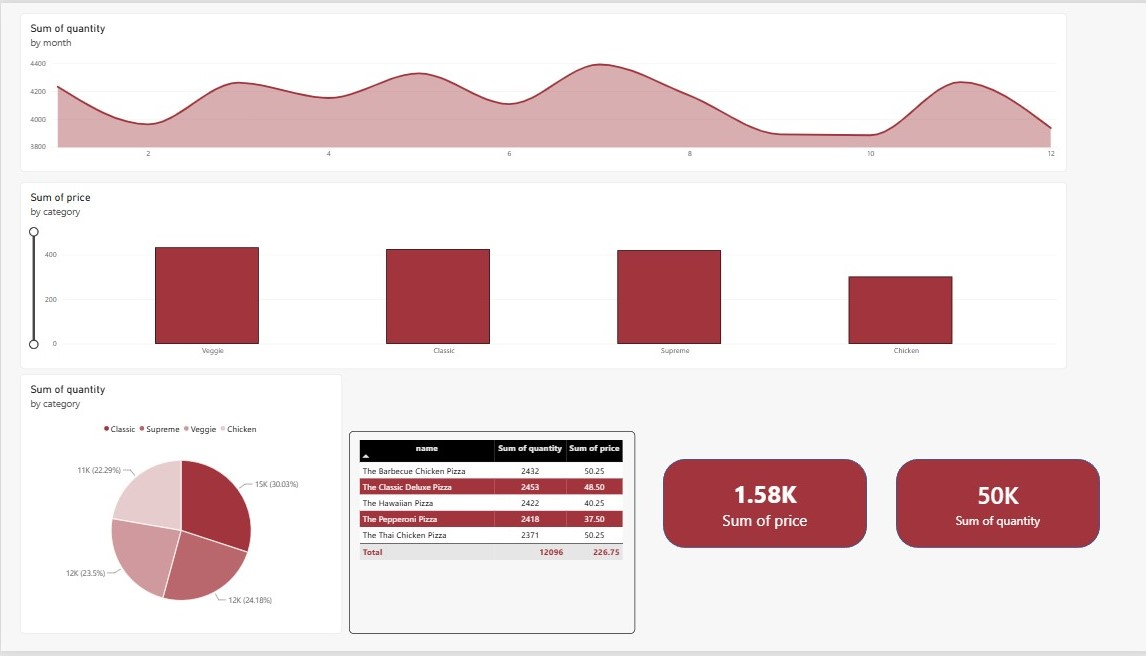

The page's visual inventory and layout, read from the dashboard file:
{"tool":"powerbi","page":{"name":"Page ١","canvas":[1920,1080],"ordinal":0},"visuals":[{"type":"pieChart","fields":{"Category":["pizza_types.category"],"Y":["Sum(order_details.quantity)"]},"box":[31.7,618.3,537.3,433.3],"z":1000},{"type":"columnChart","fields":{"Category":["pizza_types.category"],"Y":["Sum(pizzas.price)"]},"box":[31.7,298.3,1745,311.7],"z":2000},{"type":"tableEx","fields":{"Values":["pizza_types.name","Sum(order_details.quantity)","Sum(pizzas.price)"]},"box":[580,713.3,476.7,338.3],"z":3000},{"type":"shape","box":[1103,759.3,340,148.3],"z":4000},{"type":"cardVisual","fields":{"Data":["Sum(pizzas.price)"]},"box":[1126.3,781,293.3,106.7],"z":5000},{"type":"shape","box":[1491.3,759.3,340,148.3],"z":6000},{"type":"cardVisual","fields":{"Data":["Sum(order_details.quantity)"]},"box":[1514.7,781,293.3,106.7],"z":7000},{"type":"lineChart","fields":{"Category":["orders.month"],"Y":["Sum(order_details.quantity)"]},"box":[31.7,16.7,1745,265],"z":7001}]}

Visuals, with their boxes in screenshot pixels (x1, y1, x2, y2), scaled from the page's 1920x1080 canvas onto the 1146x656 screenshot:
pieChart - pizza_types.category x Sum(order_details.quantity): (19, 376, 340, 639)
columnChart - pizza_types.category x Sum(pizzas.price): (19, 181, 1060, 371)
tableEx - pizza_types.name x Sum(order_details.quantity): (346, 433, 631, 639)
shape: (658, 461, 861, 551)
cardVisual - Sum(pizzas.price): (672, 474, 847, 539)
shape: (890, 461, 1093, 551)
cardVisual - Sum(order_details.quantity): (904, 474, 1079, 539)
lineChart - orders.month x Sum(order_details.quantity): (19, 10, 1060, 171)
